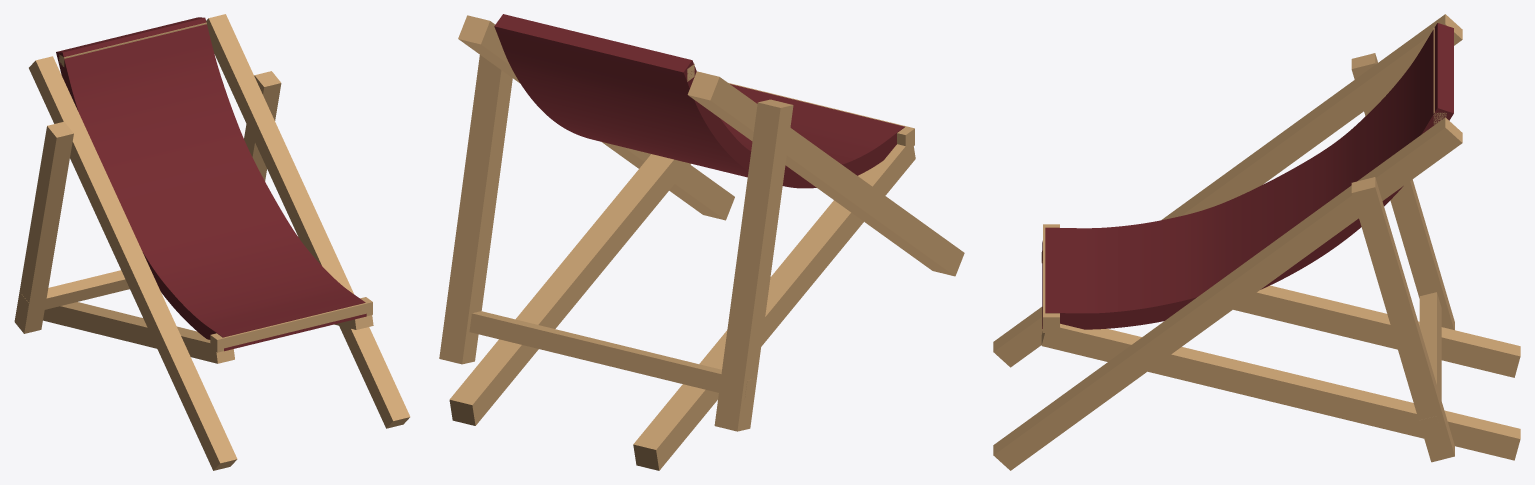
3 renders of one model, left to right at view 1: azimuth 30°, elevation 25°; view 2: azimuth 150°, elevation 25°; view 3: azimuth 270°, elevation 25°, orthographic. The views are drawn at different scales.
Visible parts, largest first — view 1: deckchair; view 2: deckchair; view 3: deckchair.
Part boxes in pixels (bbox=[...]): deckchair: bbox=[14, 14, 410, 470]; deckchair: bbox=[439, 14, 964, 470]; deckchair: bbox=[993, 14, 1520, 470].
Bounding box in the file's own units: 0.4826 × 0.584 × 0.8.
